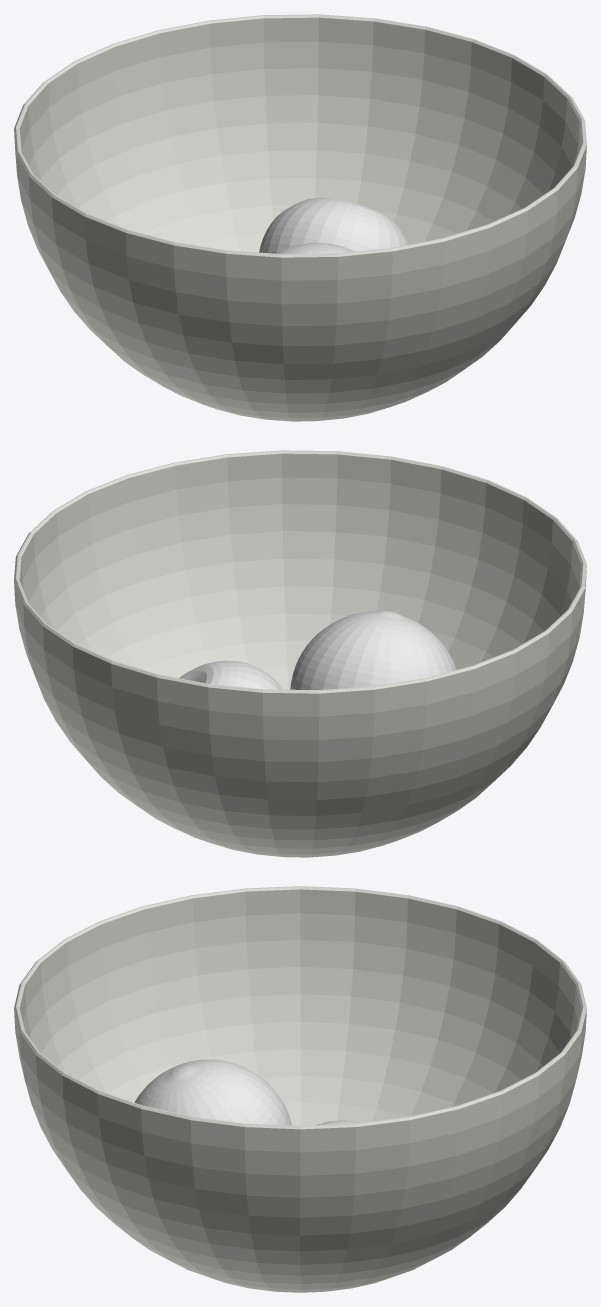
Rendered from Vase.fbx.
The picture shows the model from 3 angles, top to bottom: view 1: azimuth 30°, elevation 25°; view 2: azimuth 150°, elevation 25°; view 3: azimuth 270°, elevation 25°; orthographic projection.
Parts seen in each view (by area): view 1: Vase, V_Fruit; view 2: Vase, V_Fruit; view 3: Vase, V_Fruit.
Part boxes in pixels (<box>): Vase: <box>14,14,586,421</box>; V_Fruit: <box>259,197,409,253</box>; Vase: <box>14,450,586,857</box>; V_Fruit: <box>179,610,456,689</box>; Vase: <box>14,886,586,1292</box>; V_Fruit: <box>134,1059,361,1125</box>.
Bounding box in the file's own units: 0.2539 × 0.1246 × 0.2539.
1 material, 1 textured.
